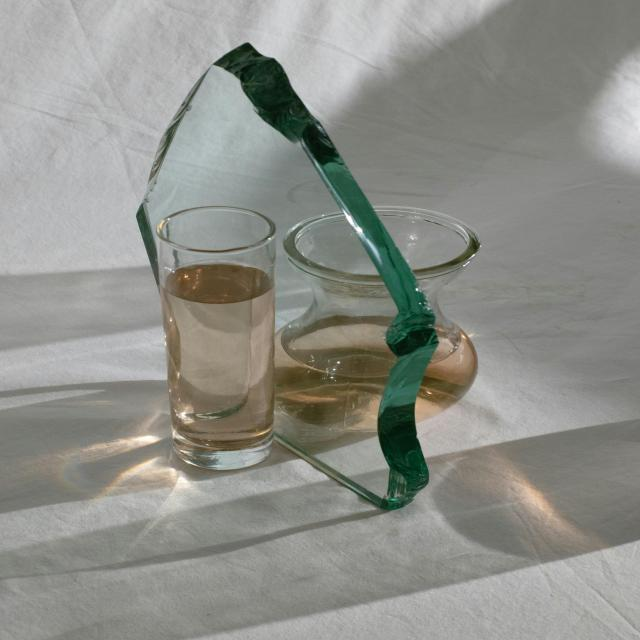electronic: (136, 38, 438, 514), (284, 202, 482, 437), (150, 205, 285, 482)
